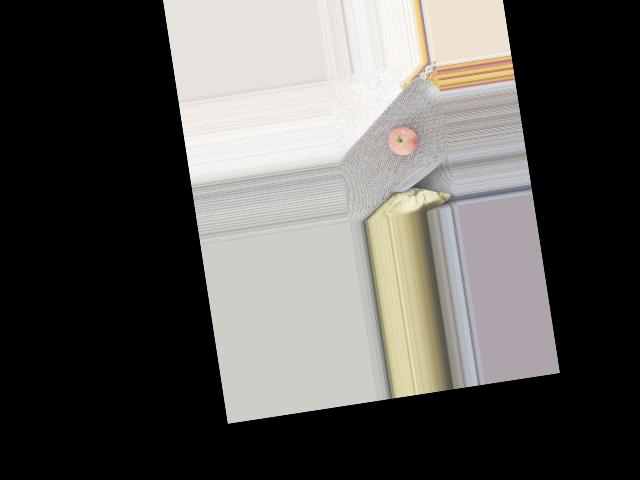apple: (388, 122, 423, 160)
